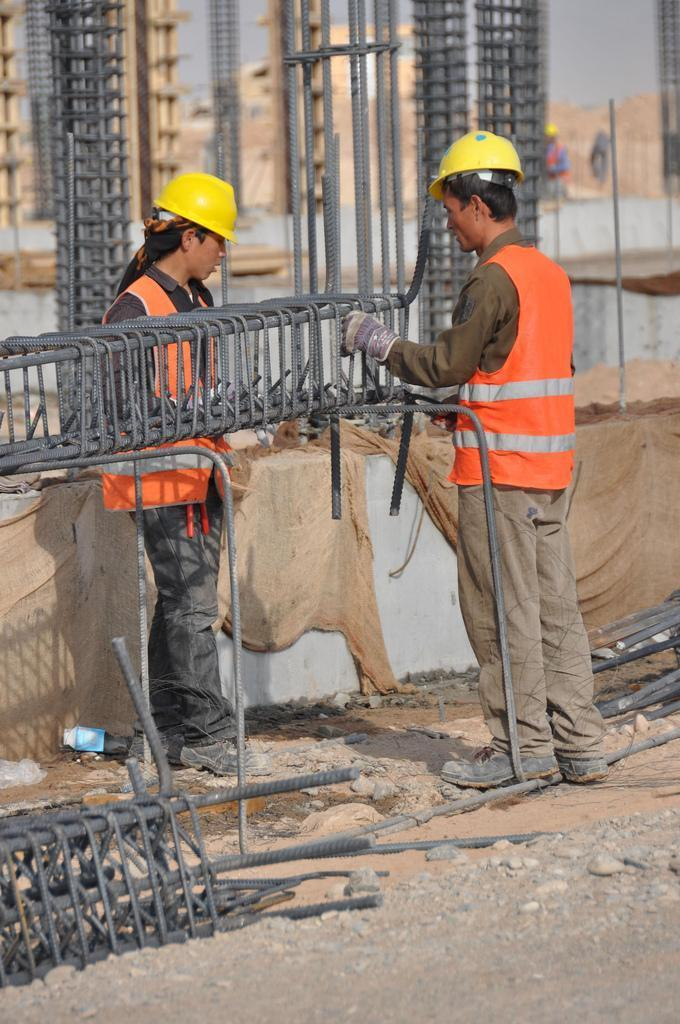vest: (91, 253, 235, 519), (448, 257, 584, 500)
